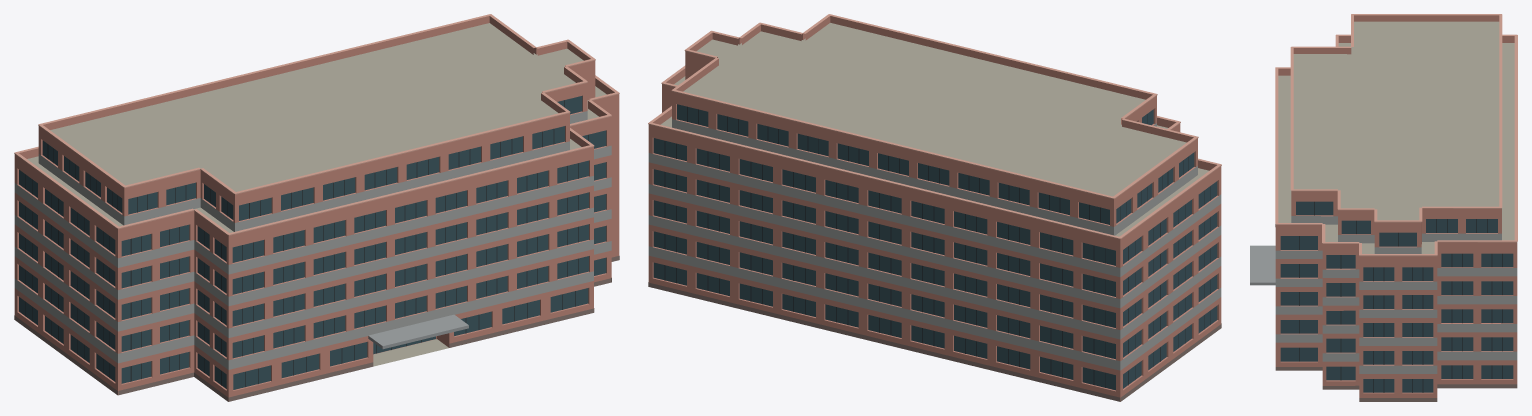
The picture shows the model from 3 angles, left to right: view 1: azimuth 30°, elevation 25°; view 2: azimuth 150°, elevation 25°; view 3: azimuth 270°, elevation 25°; orthographic projection. The views are drawn at different scales.
Parts seen in each view (by area): view 1: hospitalDental__roof, hospitalDental__wall, hospitalDental__glass, hospitalDental__wall2, hospitalDental__parapet, hospitalDental__trim, hospitalDental__frame, hospitalDental__base, hospitalDental__canopy; view 2: hospitalDental__roof, hospitalDental__wall, hospitalDental__glass, hospitalDental__wall2, hospitalDental__parapet, hospitalDental__trim, hospitalDental__frame, hospitalDental__base; view 3: hospitalDental__roof, hospitalDental__glass, hospitalDental__wall, hospitalDental__wall2, hospitalDental__trim, hospitalDental__parapet, hospitalDental__frame, hospitalDental__base, hospitalDental__canopy.
Part boxes in pixels (<box>): hospitalDental__roof: <box>27,23,606,366</box>; hospitalDental__wall: <box>14,66,619,401</box>; hospitalDental__glass: <box>19,96,606,389</box>; hospitalDental__wall2: <box>14,111,611,369</box>; hospitalDental__parapet: <box>14,16,619,242</box>; hospitalDental__trim: <box>14,14,619,235</box>; hospitalDental__frame: <box>25,100,588,387</box>; hospitalDental__base: <box>14,256,619,401</box>; hospitalDental__canopy: <box>368,314,468,349</box>; hospitalDental__roof: <box>660,23,1209,236</box>; hospitalDental__wall: <box>648,57,1221,401</box>; hospitalDental__glass: <box>653,104,1217,390</box>; hospitalDental__wall2: <box>648,119,1221,370</box>; hospitalDental__parapet: <box>648,16,1221,246</box>; hospitalDental__trim: <box>648,14,1221,239</box>; hospitalDental__frame: <box>664,106,1210,387</box>; hospitalDental__base: <box>648,282,1221,401</box>; hospitalDental__roof: <box>1278,21,1514,253</box>; hospitalDental__glass: <box>1280,201,1513,392</box>; hospitalDental__wall: <box>1275,196,1517,397</box>; hospitalDental__wall2: <box>1275,216,1517,373</box>; hospitalDental__trim: <box>1275,14,1517,256</box>; hospitalDental__parapet: <box>1275,15,1517,262</box>; hospitalDental__frame: <box>1299,201,1502,392</box>; hospitalDental__base: <box>1275,224,1517,401</box>; hospitalDental__canopy: <box>1250,245,1275,285</box>.
Size of the model in its own units: 61.05 by 22.42 by 31.28.
